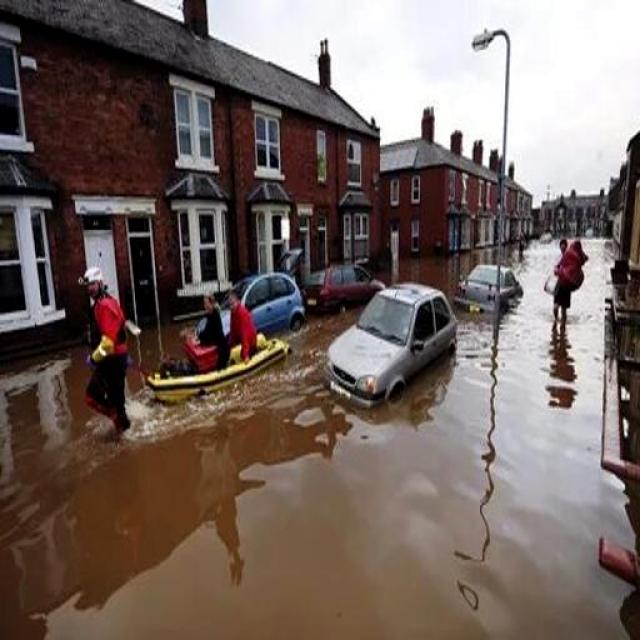civilian: (222, 291, 266, 375), (194, 288, 238, 369), (550, 230, 580, 332), (552, 230, 592, 299)
rescuer: (69, 258, 151, 458)
